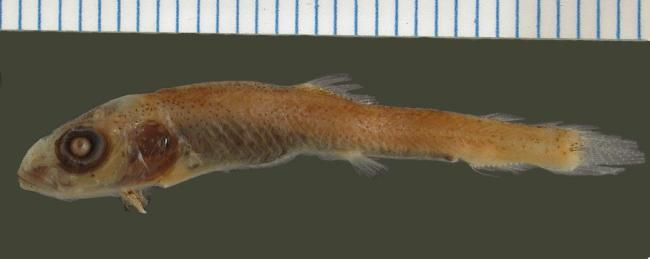fish: (17, 80, 643, 213)
